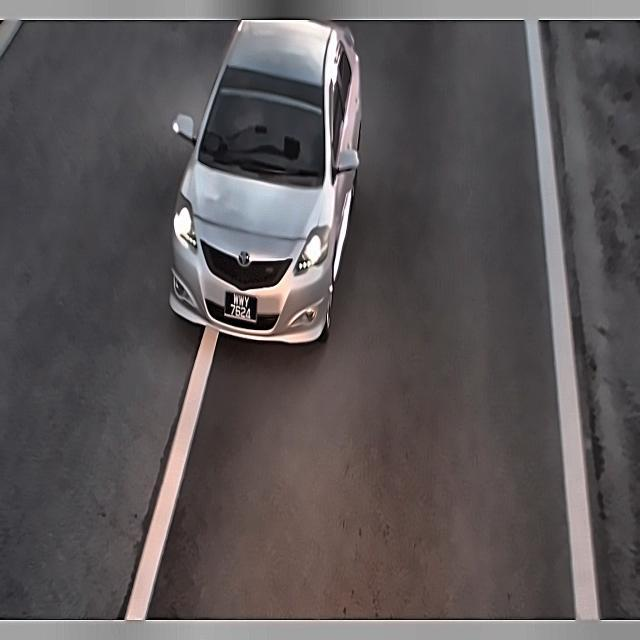car: (222, 286, 261, 329)
